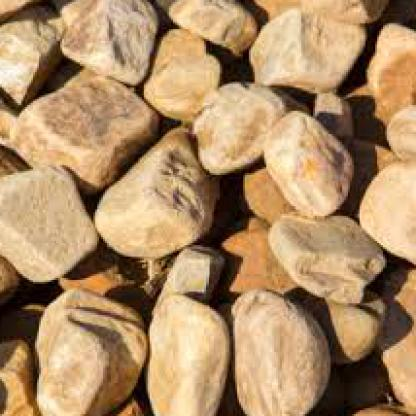Metamorphic_Marble: (88, 112, 226, 252), (0, 154, 105, 305), (8, 66, 161, 169), (25, 280, 140, 414), (226, 280, 336, 414), (253, 210, 400, 303), (239, 6, 377, 103), (136, 294, 231, 414), (193, 70, 290, 185), (262, 97, 348, 216)
